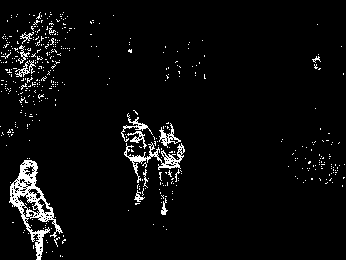person: (10, 157, 67, 260), (121, 108, 157, 205), (151, 121, 186, 216)
